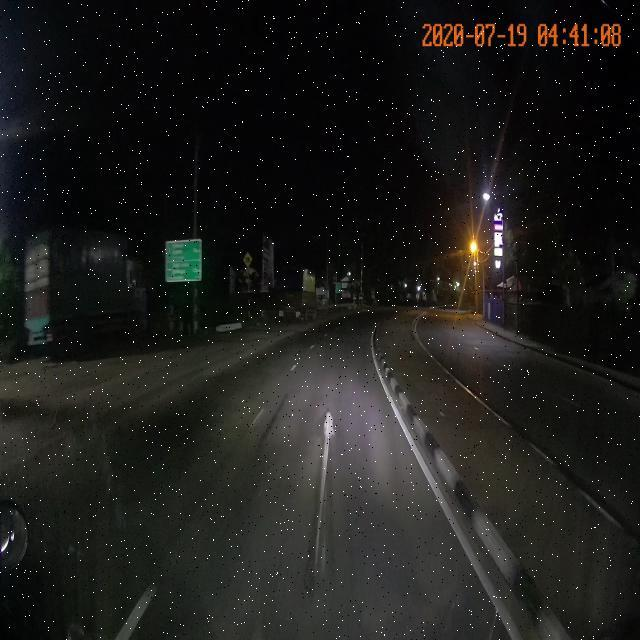forward: (141, 406, 507, 614)
